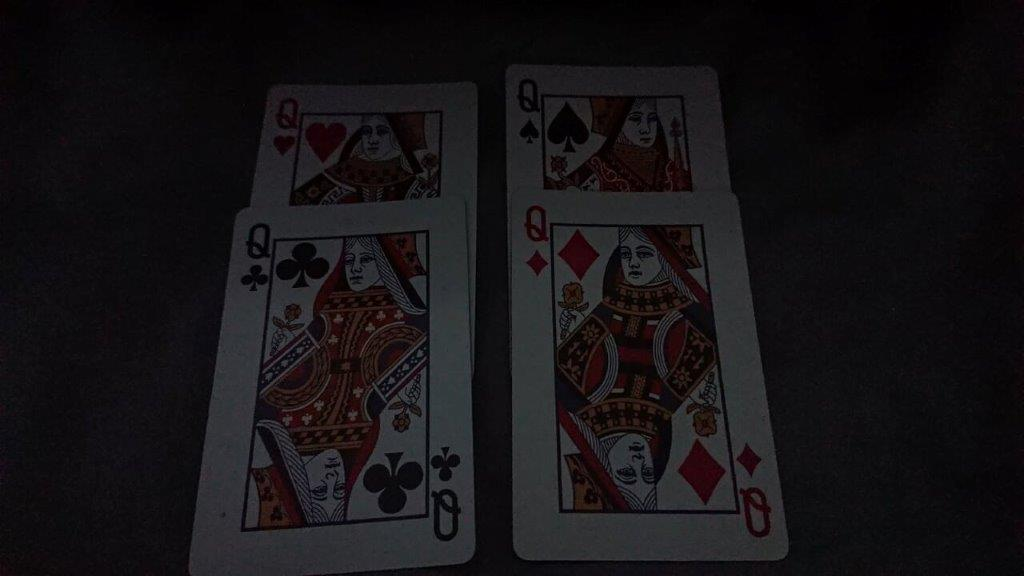QC: (234, 215, 282, 297)
QD: (516, 192, 562, 284)
QH: (268, 92, 309, 164)
QS: (510, 72, 550, 148)
